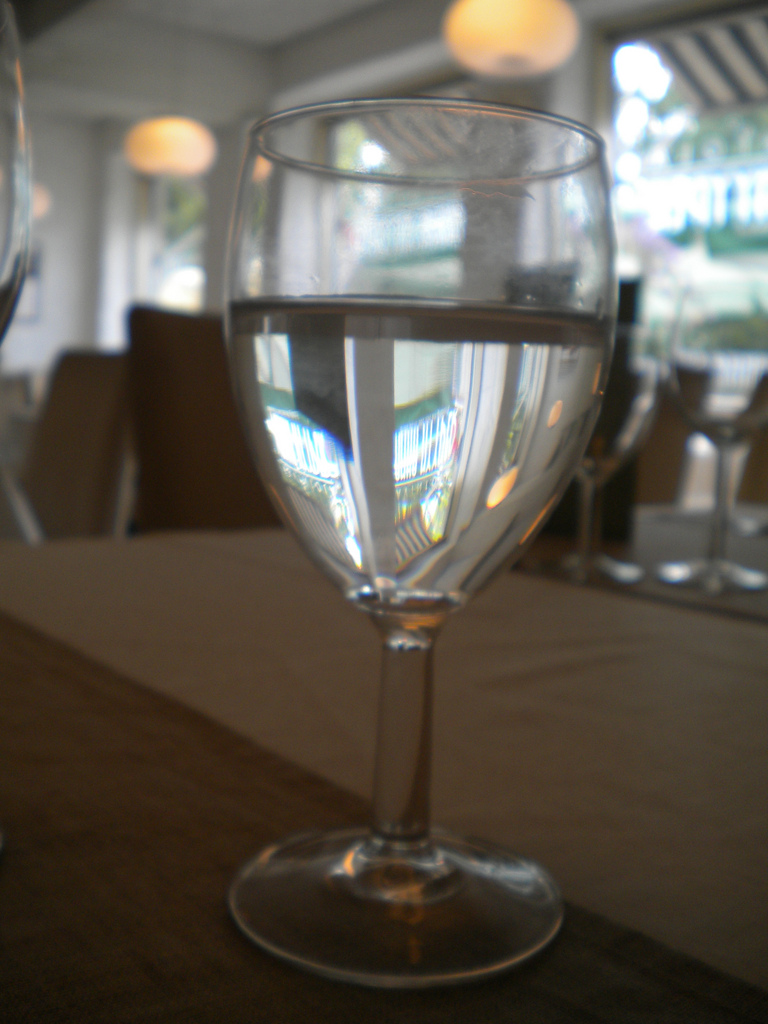glass of water: (232, 88, 620, 1002)
